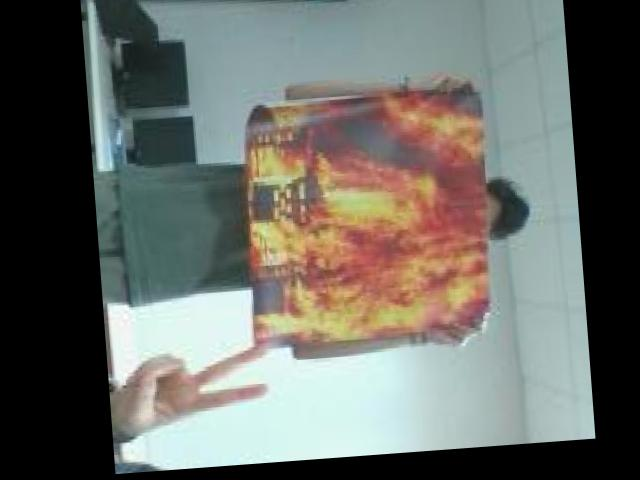fire-poster: (232, 84, 496, 366)
